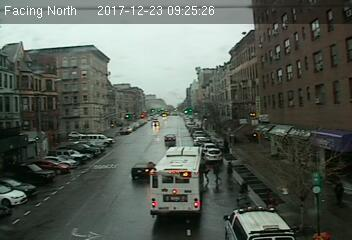bus: (146, 144, 206, 217)
car: (131, 160, 156, 181), (204, 147, 223, 161), (163, 134, 176, 144)
pedestrian: (237, 180, 250, 206), (212, 164, 223, 187), (226, 160, 233, 184)
police: (222, 206, 295, 240)
